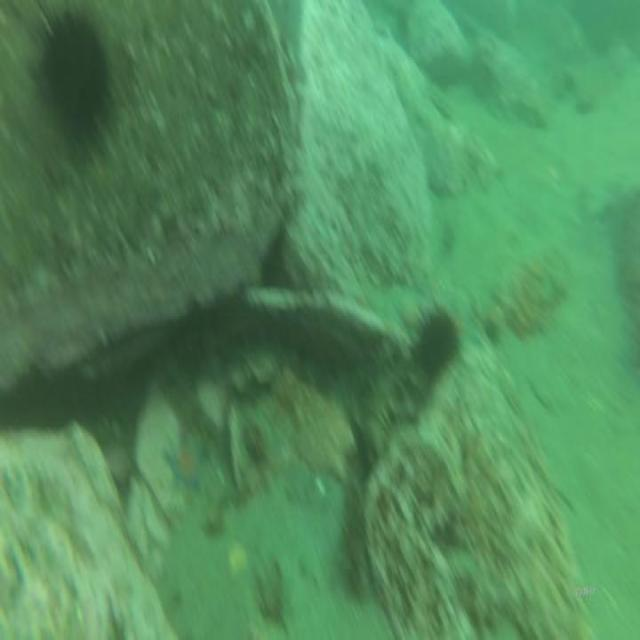echinus: (29, 6, 115, 163), (412, 295, 462, 381)
holothurian: (344, 351, 404, 602)
starfish: (164, 432, 206, 502)
